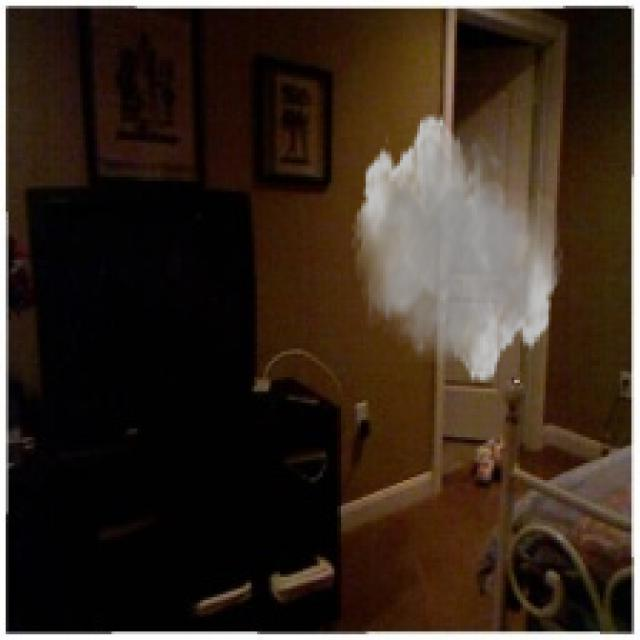smoke: (351, 111, 563, 386)
